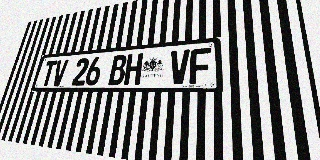2: (72, 58, 90, 86)
6: (84, 56, 103, 86)
B: (108, 54, 127, 85)
F: (189, 48, 211, 84)
H: (123, 53, 143, 85)
T: (40, 60, 57, 86)
V: (169, 49, 190, 84), (51, 59, 69, 86)
